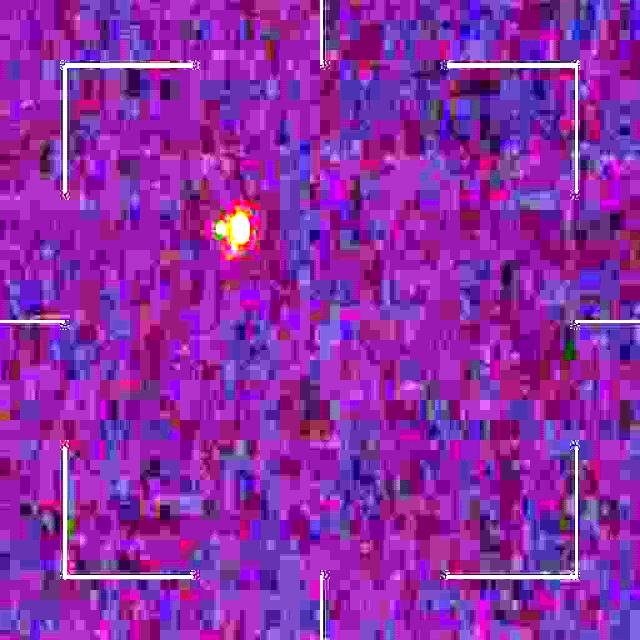bird: (215, 209, 252, 256)
